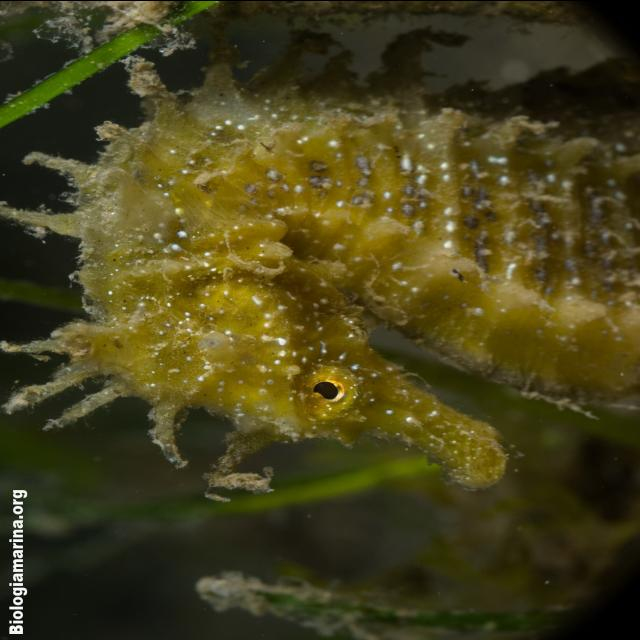Guttu: (76, 258, 516, 496)
